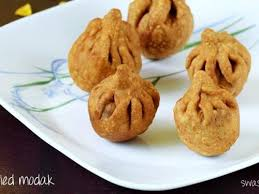modak: (168, 61, 241, 157), (92, 66, 162, 140), (68, 17, 147, 80), (189, 25, 253, 92)
